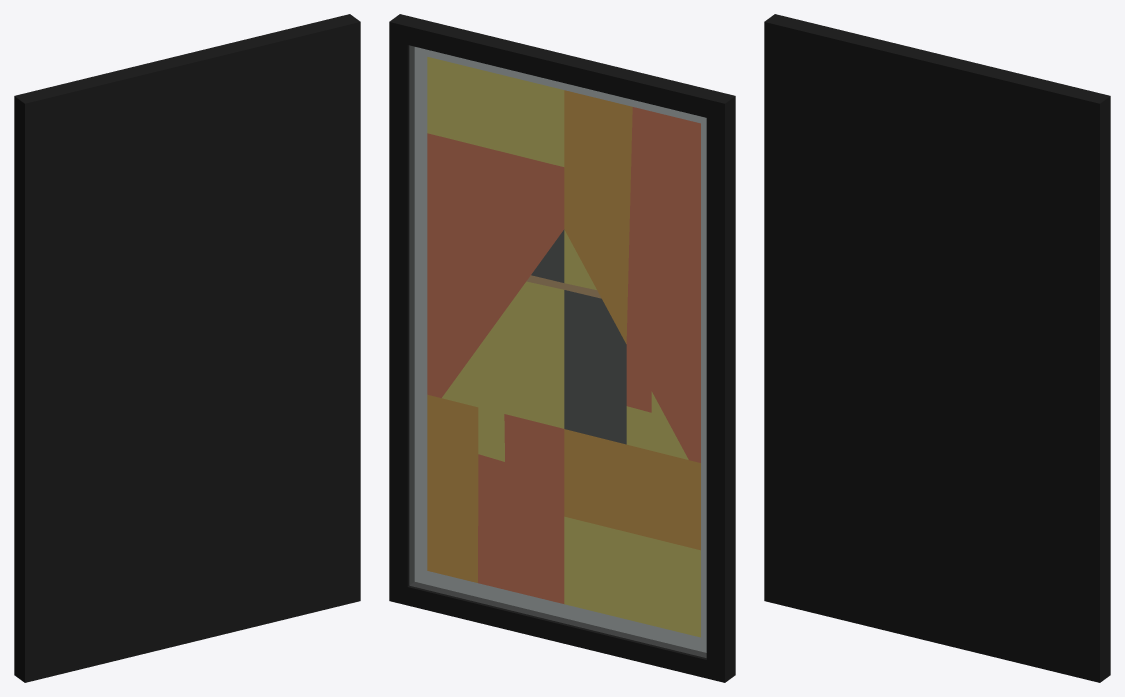
Rendered from WallArt01.glb.
The picture shows the model from 3 angles, left to right: view 1: azimuth 30°, elevation 25°; view 2: azimuth 150°, elevation 25°; view 3: azimuth 330°, elevation 25°; orthographic projection.
Visible parts, largest first — view 1: Node; view 2: Node; view 3: Node.
Part boxes in pixels (x1,y1,x2,y2): Node: [14, 14, 360, 682]; Node: [389, 14, 735, 682]; Node: [764, 14, 1110, 682].
Size of the model in its own units: 0.54 by 0.89 by 0.03.
2 materials, 2 textured.
